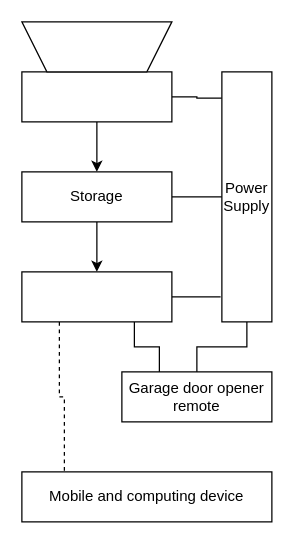
Image size: 294x544. Some labels were removed from this diagram. The shapes that lost their labels are listed below. From the top down, each one's centre as x and y in pixels, then its label:
At (96,96): "Video capture".
At (96,296): "Wireless communication".
